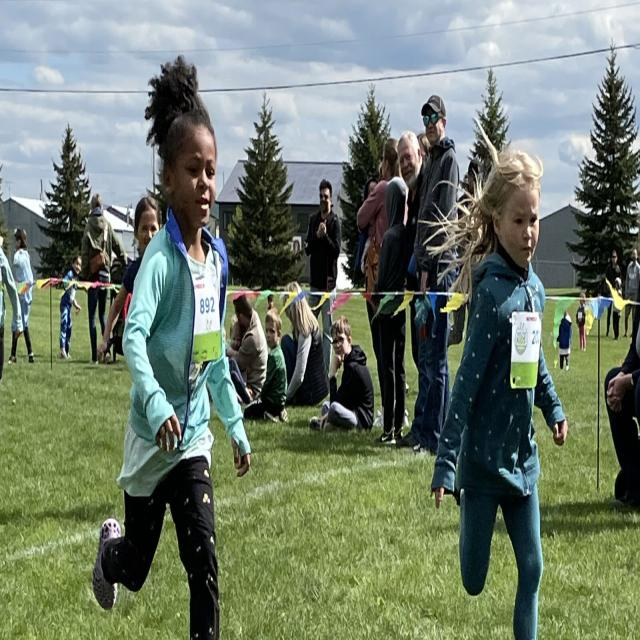Person: (93, 57, 251, 640), (430, 149, 568, 640), (414, 93, 460, 463), (81, 192, 126, 362), (310, 315, 374, 433), (242, 309, 289, 423), (10, 229, 35, 362), (60, 255, 81, 360)
